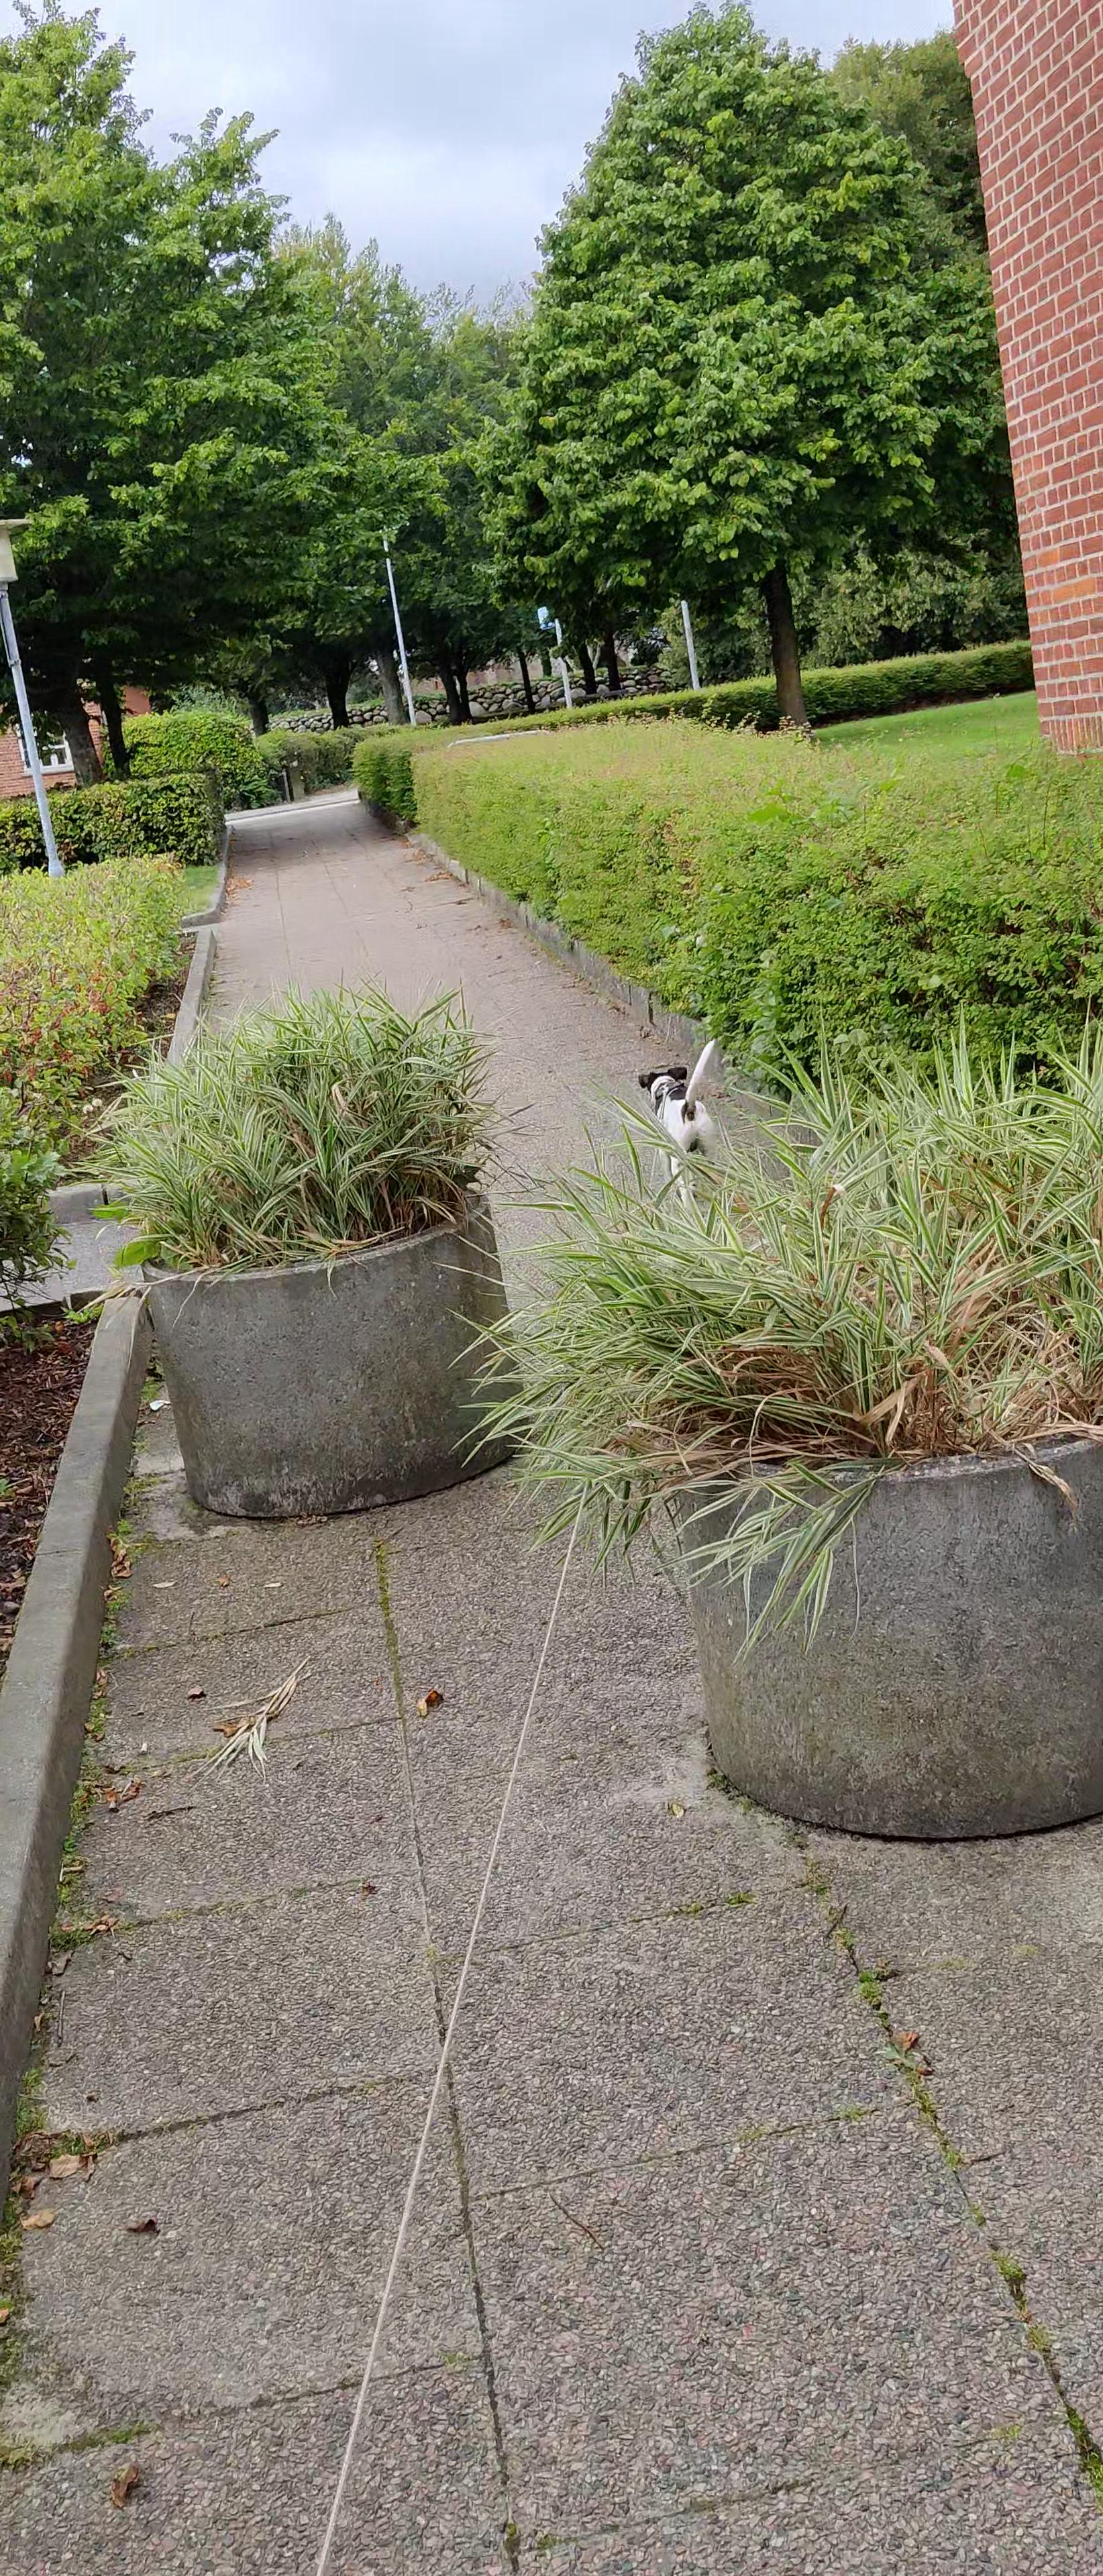Dog: (635, 1037, 723, 1217)
